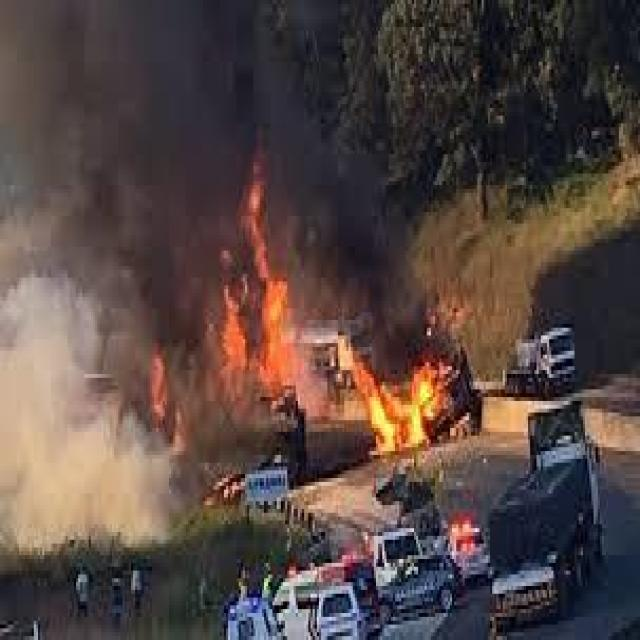fire: (212, 167, 294, 396), (340, 336, 469, 456), (141, 337, 191, 439)
smoke: (39, 9, 396, 232)
